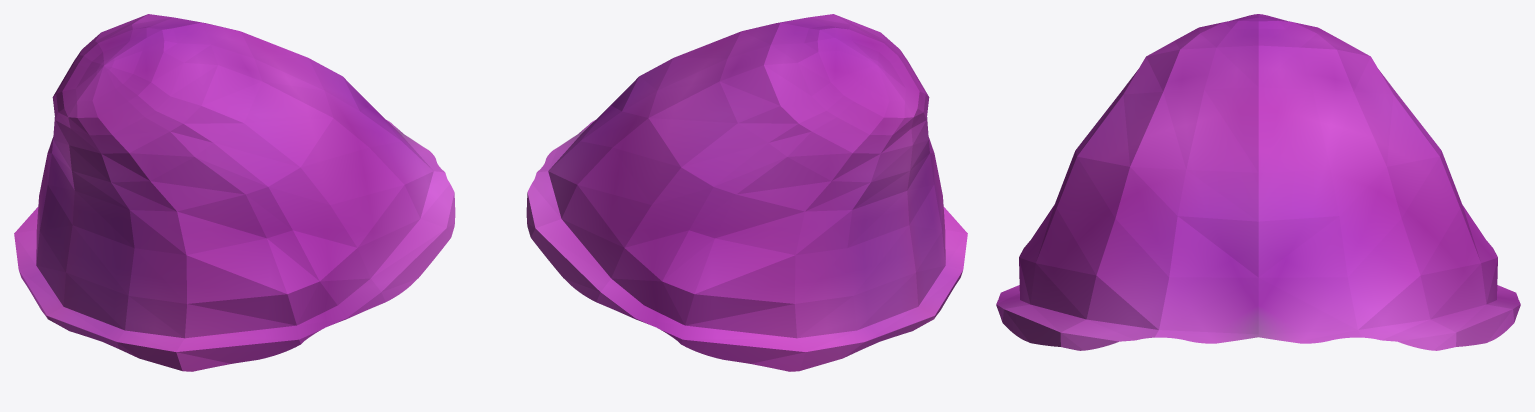
File: BASIC BEANIE.fbx
The picture shows the model from 3 angles, left to right: view 1: azimuth 30°, elevation 25°; view 2: azimuth 150°, elevation 25°; view 3: azimuth 270°, elevation 25°; orthographic projection. The views are drawn at different scales.
Visible parts, largest first — view 1: BASIC_BEANIE; view 2: BASIC_BEANIE; view 3: BASIC_BEANIE.
Part boxes in pixels (bbox=[...]): BASIC_BEANIE: bbox=[14, 14, 455, 371]; BASIC_BEANIE: bbox=[526, 14, 967, 371]; BASIC_BEANIE: bbox=[996, 14, 1520, 350].
Size of the model in its own units: 29.2 by 22.4 by 31.19.
